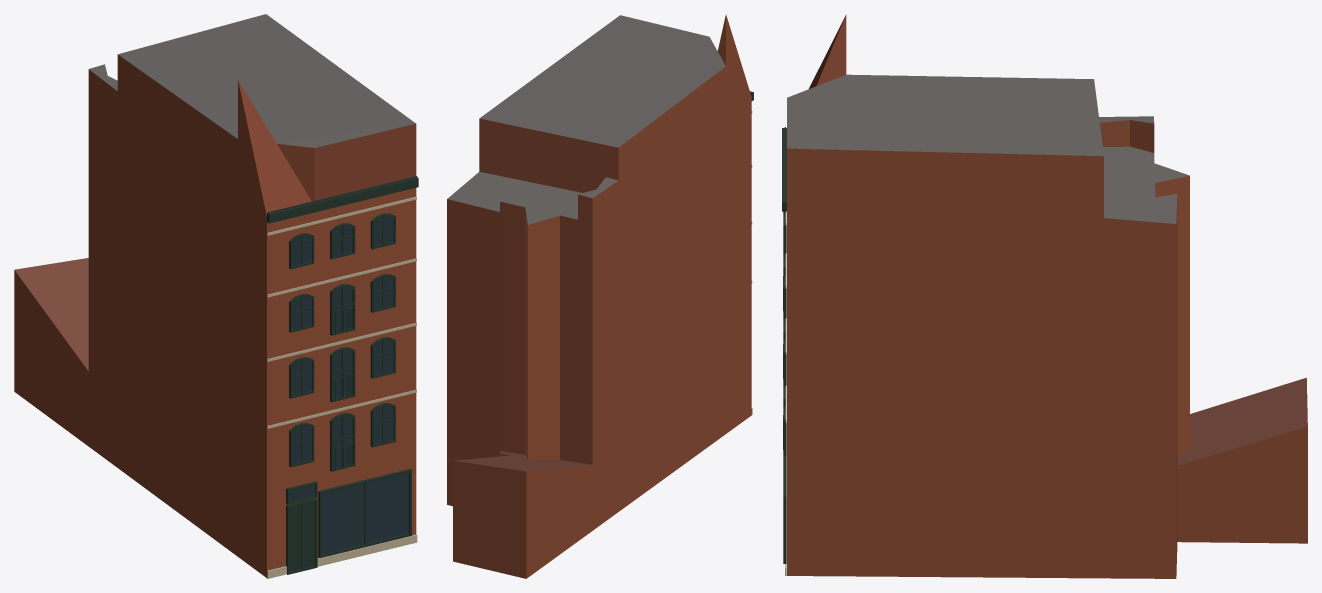
File: recipe-bilder-155417.glb
3 renders of one model, left to right at view 1: azimuth 30°, elevation 25°; view 2: azimuth 150°, elevation 25°; view 3: azimuth 270°, elevation 25°, orthographic. The views are drawn at different scales.
Parts seen in each view (by area): view 1: bilder-155417; view 2: bilder-155417; view 3: bilder-155417.
Part boxes in pixels (<box>): bilder-155417: <box>14,14,418,578</box>; bilder-155417: <box>447,14,753,578</box>; bilder-155417: <box>782,14,1307,578</box>.
Size of the model in its own units: 6.41 by 18.8 by 18.38.
